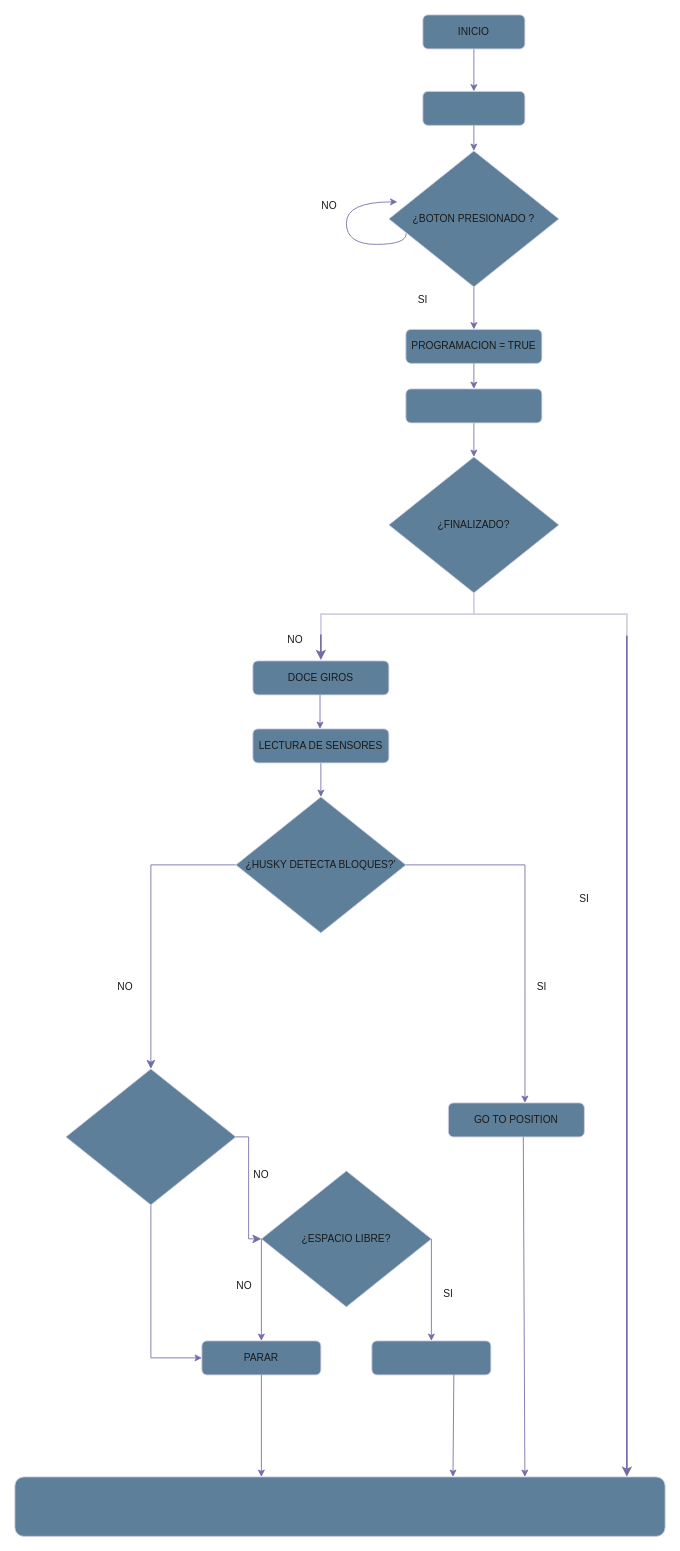
Image size: 680x1551. Some labels were removed from this diagram. Here are the shapes that lost their labels. From the top down, the centre of each, then its label:
the point at 473,108: VOID SETUP
the point at 473,405: VOID LOOP
the point at 150,1136: ¿OBSTACULO AL FRNTE?
the point at 431,1357: GIRAR O AVANZAR
the point at 339,1506: TERMINA
